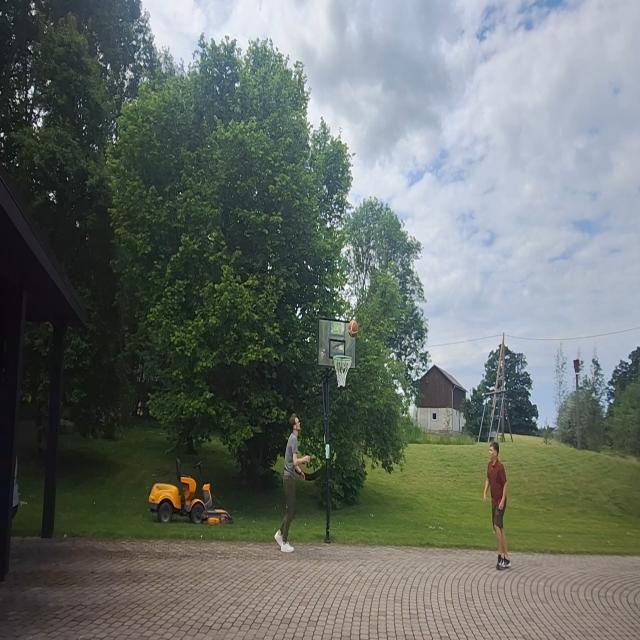ball: (348, 319, 359, 338)
basket: (333, 353, 352, 391)
player: (275, 412, 310, 552), (481, 438, 514, 572)
